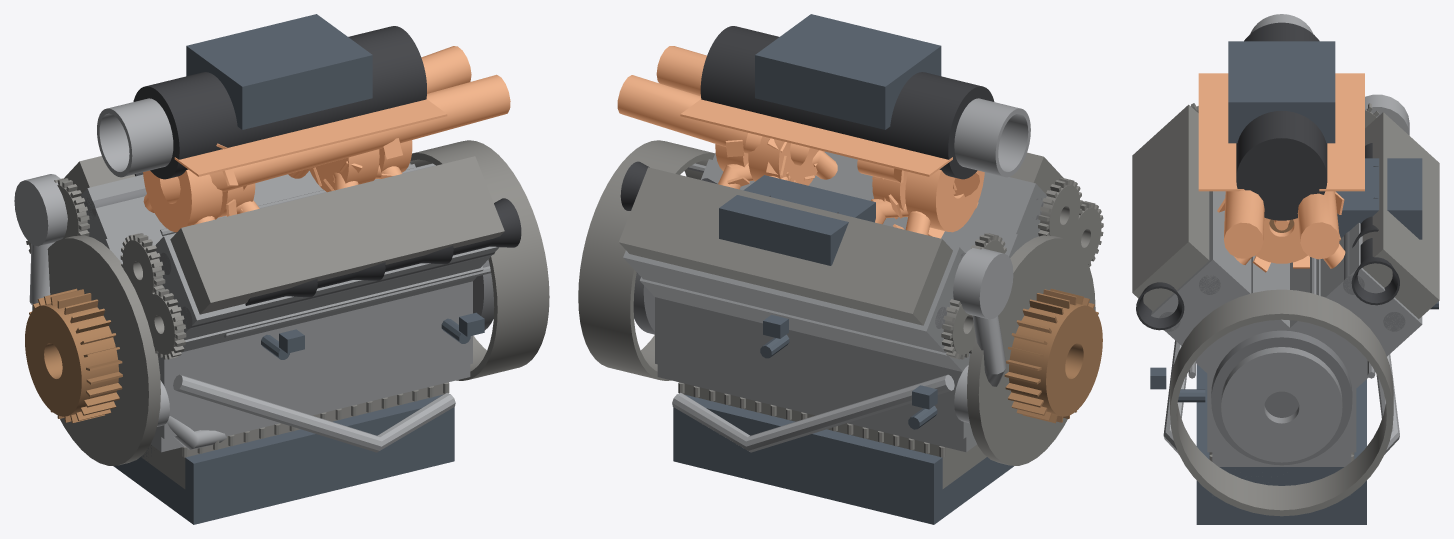
Rendered from engine.glb.
The picture shows the model from 3 angles, left to right: view 1: azimuth 30°, elevation 25°; view 2: azimuth 150°, elevation 25°; view 3: azimuth 270°, elevation 25°; orthographic projection. The views are drawn at different scales.
Visible parts, largest first — view 1: camcover_r, block_crankcase, battery, inverter, timing_cover, plenum, bellhousing, mguk, tailpipes, head_r, turbos, heat_shields (+19 smaller); view 2: camcover_l, battery, block_crankcase, inverter, plenum, bellhousing, timing_cover, mguk, ecu, head_l, tailpipes, turbos (+18 smaller); view 3: bellhousing, camcover_r, clutch, inverter, plenum, camcover_l, heat_shields, battery, head_r, tailpipes, flywheel, ecu (+14 smaller).
Boxes of the visible parts, bbox=[...] form: camcover_r: bbox=[170, 156, 504, 314]; block_crankcase: bbox=[155, 281, 472, 438]; battery: bbox=[113, 394, 454, 524]; inverter: bbox=[186, 14, 372, 129]; timing_cover: bbox=[32, 235, 160, 465]; plenum: bbox=[133, 26, 426, 179]; bellhousing: bbox=[410, 140, 549, 380]; mguk: bbox=[25, 288, 122, 423]; tailpipes: bbox=[160, 46, 510, 203]; head_r: bbox=[155, 233, 499, 339]; turbos: bbox=[143, 140, 412, 232]; heat_shields: bbox=[174, 99, 447, 176]; camcover_l: bbox=[619, 167, 952, 325]; battery: bbox=[673, 394, 1013, 524]; block_crankcase: bbox=[655, 297, 972, 438]; inverter: bbox=[755, 14, 941, 129]; plenum: bbox=[700, 26, 994, 179]; bellhousing: bbox=[578, 140, 714, 380]; timing_cover: bbox=[967, 235, 1095, 465]; mguk: bbox=[1004, 288, 1102, 423]; ecu: bbox=[719, 175, 875, 265]; head_l: bbox=[623, 244, 965, 352]; tailpipes: bbox=[617, 46, 979, 196]; turbos: bbox=[715, 136, 984, 232]; bellhousing: bbox=[1170, 289, 1393, 516]; camcover_r: bbox=[1132, 104, 1209, 311]; clutch: bbox=[1221, 347, 1342, 462]; inverter: bbox=[1228, 41, 1335, 143]; plenum: bbox=[1236, 22, 1327, 220]; camcover_l: bbox=[1362, 112, 1439, 318]; heat_shields: bbox=[1198, 73, 1364, 191]; battery: bbox=[1196, 364, 1366, 524]; head_r: bbox=[1151, 191, 1251, 345]; tailpipes: bbox=[1223, 190, 1339, 259]; flywheel: bbox=[1211, 330, 1352, 465]; ecu: bbox=[1335, 158, 1422, 239].
Size of the model in its own units: 0.658 by 0.589 by 0.4183.
